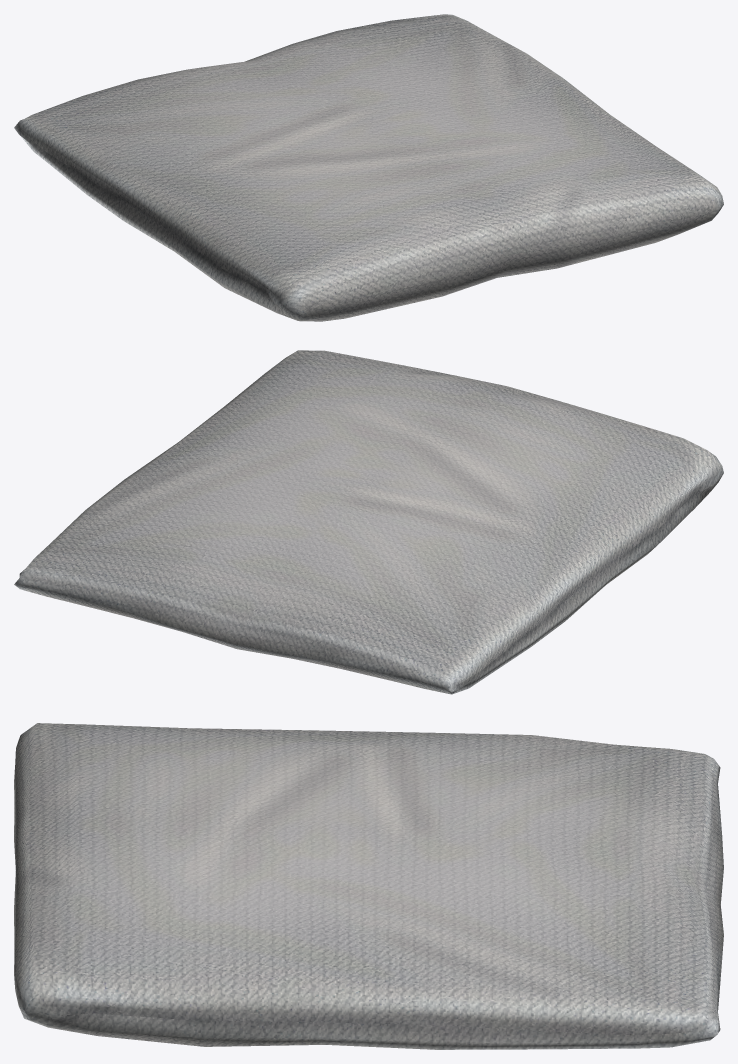
The model's file is cloth_folded01a.fbx.
The picture shows the model from 3 angles, top to bottom: view 1: azimuth 30°, elevation 25°; view 2: azimuth 150°, elevation 25°; view 3: azimuth 270°, elevation 25°; orthographic projection. The views are drawn at different scales.
Visible parts, largest first — view 1: cloth_folded01a; view 2: cloth_folded01a; view 3: cloth_folded01a.
Part boxes in pixels (left/top/right/bottom): cloth_folded01a: left=14, top=14, right=723, bottom=321; cloth_folded01a: left=14, top=350, right=723, bottom=694; cloth_folded01a: left=14, top=723, right=723, bottom=1049.
Bounding box in the file's own units: 28.83 × 5.3 × 31.46.
